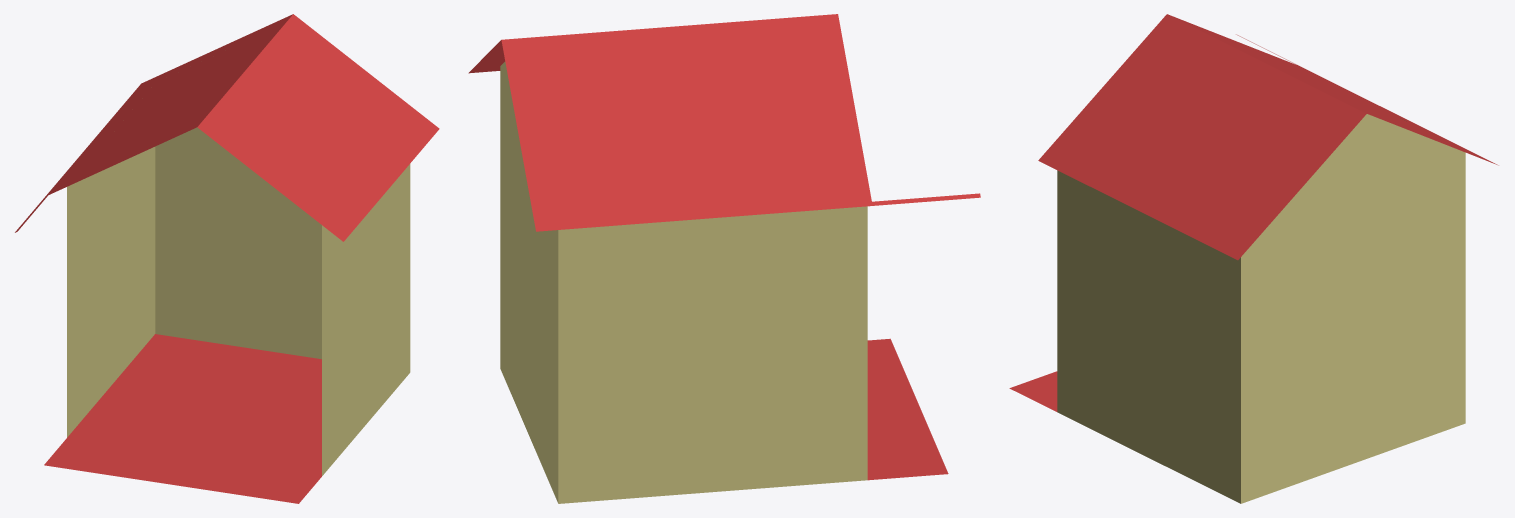
The picture shows the model from 3 angles, left to right: view 1: azimuth 30°, elevation 25°; view 2: azimuth 150°, elevation 25°; view 3: azimuth 270°, elevation 25°; orthographic projection. The views are drawn at different scales.
Bounding box in the file's own units: 10.66 × 9.8 × 7.9.
